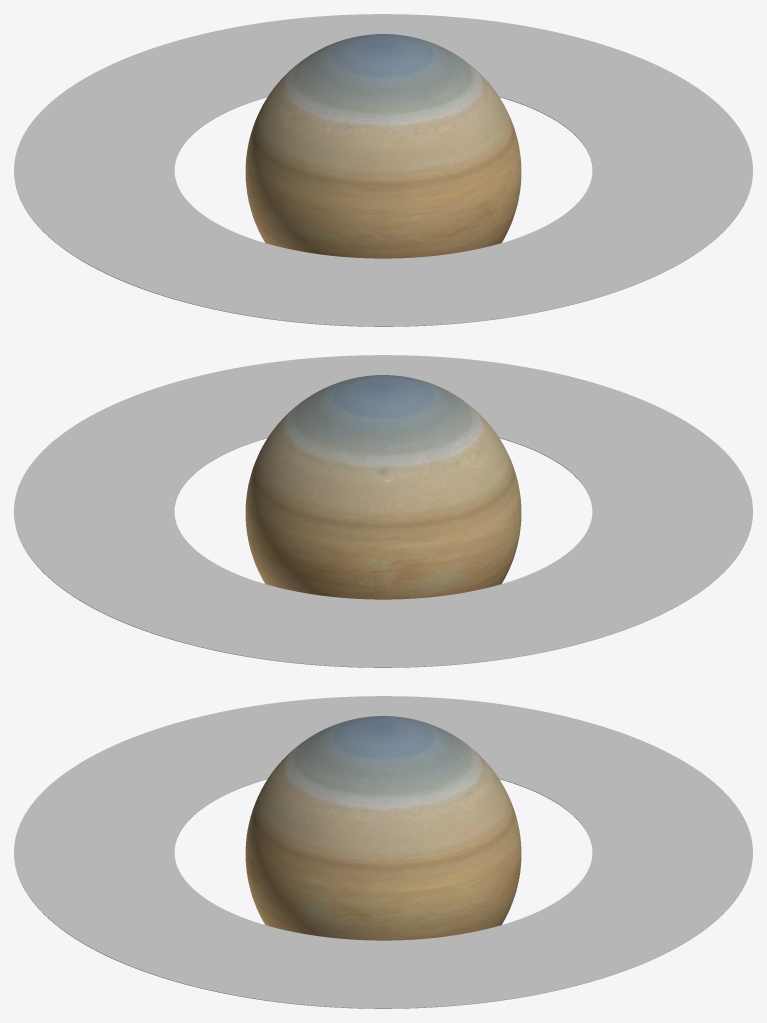
Rendered from sat.fbx.
3 views of the same model, one above another, from view 1: azimuth 30°, elevation 25°; view 2: azimuth 150°, elevation 25°; view 3: azimuth 270°, elevation 25° (orthographic).
Parts seen in each view (by area): view 1: pPlane1.2, pSphere1.1; view 2: pPlane1.2, pSphere1.1; view 3: pPlane1.2, pSphere1.1.
Part boxes in pixels (x1,y1,x2,y2): pPlane1.2: (14, 14, 752, 326); pSphere1.1: (245, 34, 521, 258); pPlane1.2: (14, 355, 752, 667); pSphere1.1: (245, 375, 521, 599); pPlane1.2: (14, 696, 752, 1008); pSphere1.1: (245, 716, 521, 940).
Bounding box in the file's own units: 5356 × 2000 × 5356.
